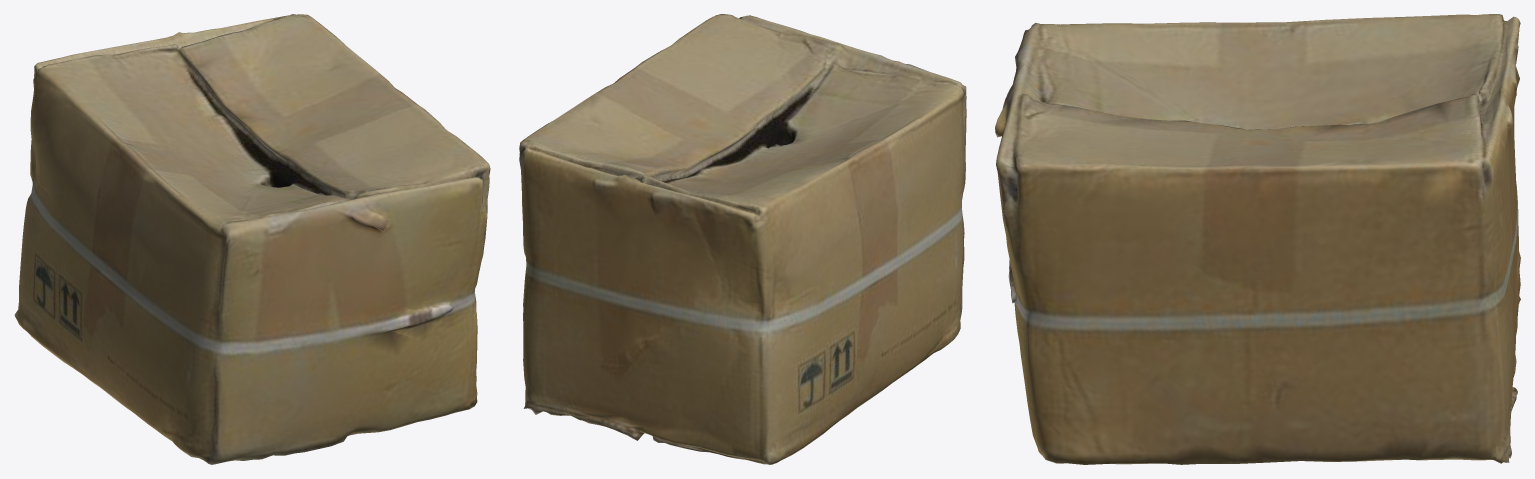
Rendered from cardboard_box_01.glb.
3 renders of one model, left to right at view 1: azimuth 30°, elevation 25°; view 2: azimuth 150°, elevation 25°; view 3: azimuth 270°, elevation 25°, orthographic. The views are drawn at different scales.
Visible parts, largest first — view 1: cardboard_box_01; view 2: cardboard_box_01; view 3: cardboard_box_01.
Part boxes in pixels (x1,y1,x2,y2): cardboard_box_01: [14, 14, 490, 464]; cardboard_box_01: [519, 14, 966, 464]; cardboard_box_01: [995, 14, 1520, 464].
Bounding box in the file's own units: 0.3868 × 0.3418 × 0.5159.
Materials: 1 (1 with a texture image).
